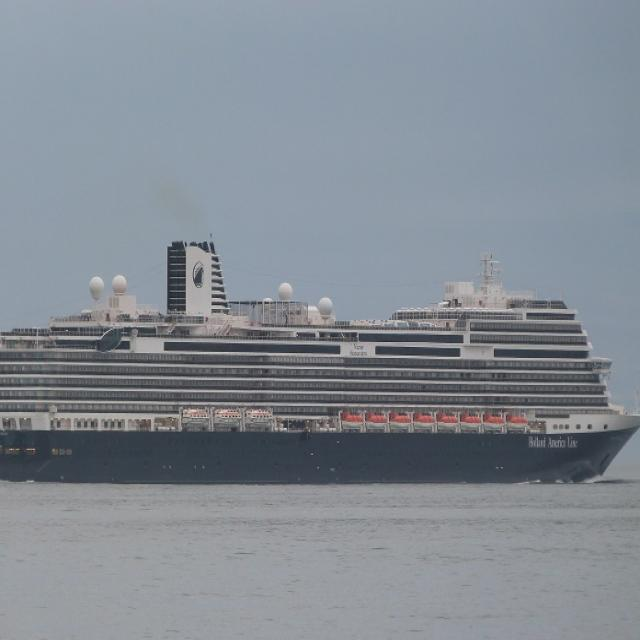cruises: (1, 232, 640, 492)
